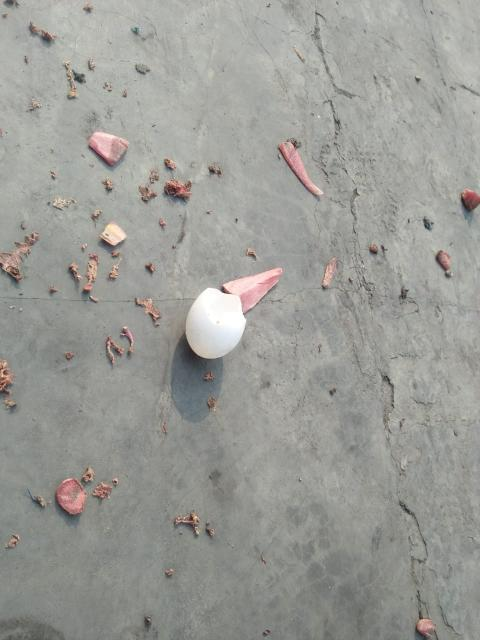Roto: (186, 288, 248, 359)
